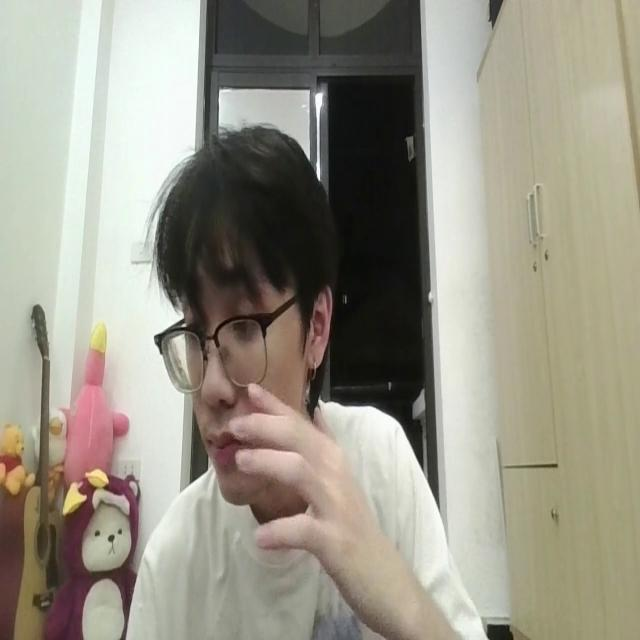student: (111, 121, 487, 640)
